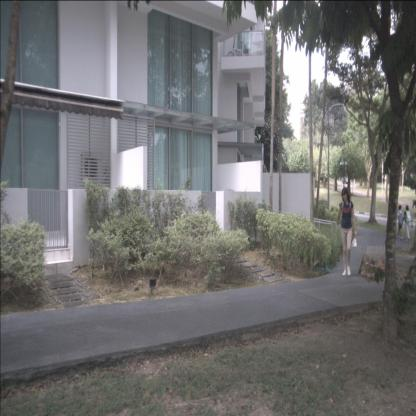human-pedestrian-adult: (338, 187, 356, 276), (404, 204, 414, 245)
